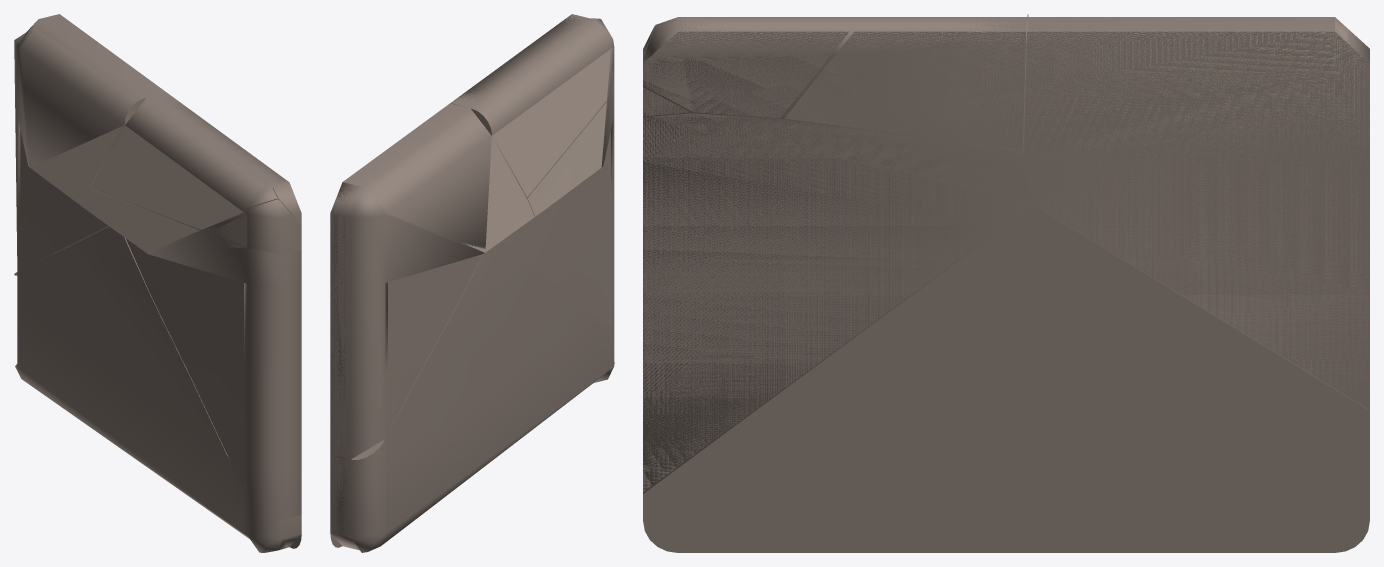
The model's file is Dishwasher - Proxy.fbx.
The picture shows the model from 3 angles, left to right: view 1: azimuth 30°, elevation 25°; view 2: azimuth 150°, elevation 25°; view 3: azimuth 270°, elevation 25°; orthographic projection. The views are drawn at different scales.
Visible parts, largest first — view 1: Dishwasher, Dishwasher_cell.001, Dishwasher_cell.004, Dishwasher_cell.005, Dishwasher_cell, Dishwasher_cell.002, Dishwasher_cell.003; view 2: Dishwasher, Dishwasher_cell, Dishwasher_cell.001, Dishwasher_cell.004, Dishwasher_cell.005; view 3: Dishwasher_cell.001, Dishwasher, Dishwasher_cell, Dishwasher_cell.004, Dishwasher_cell.005, Dishwasher_cell.003.
Boxes of the visible parts, x1,y1,x2,y2 form: Dishwasher: (17,21,301,546); Dishwasher_cell.001: (14,226,301,552); Dishwasher_cell.004: (79,188,247,488); Dishwasher_cell.005: (90,93,277,229); Dishwasher_cell: (14,14,166,274); Dishwasher_cell.002: (211,199,301,254); Dishwasher_cell.003: (250,161,301,227); Dishwasher: (330,15,614,550); Dishwasher_cell: (330,103,534,459); Dishwasher_cell.001: (330,242,614,552); Dishwasher_cell.004: (500,102,614,325); Dishwasher_cell.005: (451,18,612,197); Dishwasher_cell.001: (643,206,1369,552); Dishwasher: (643,17,1369,493); Dishwasher_cell: (1024,14,1369,409); Dishwasher_cell.004: (643,113,1032,491); Dishwasher_cell.005: (655,14,1027,149); Dishwasher_cell.003: (643,19,849,118).
Size of the model in its own units: 29.39 by 117 by 148.
